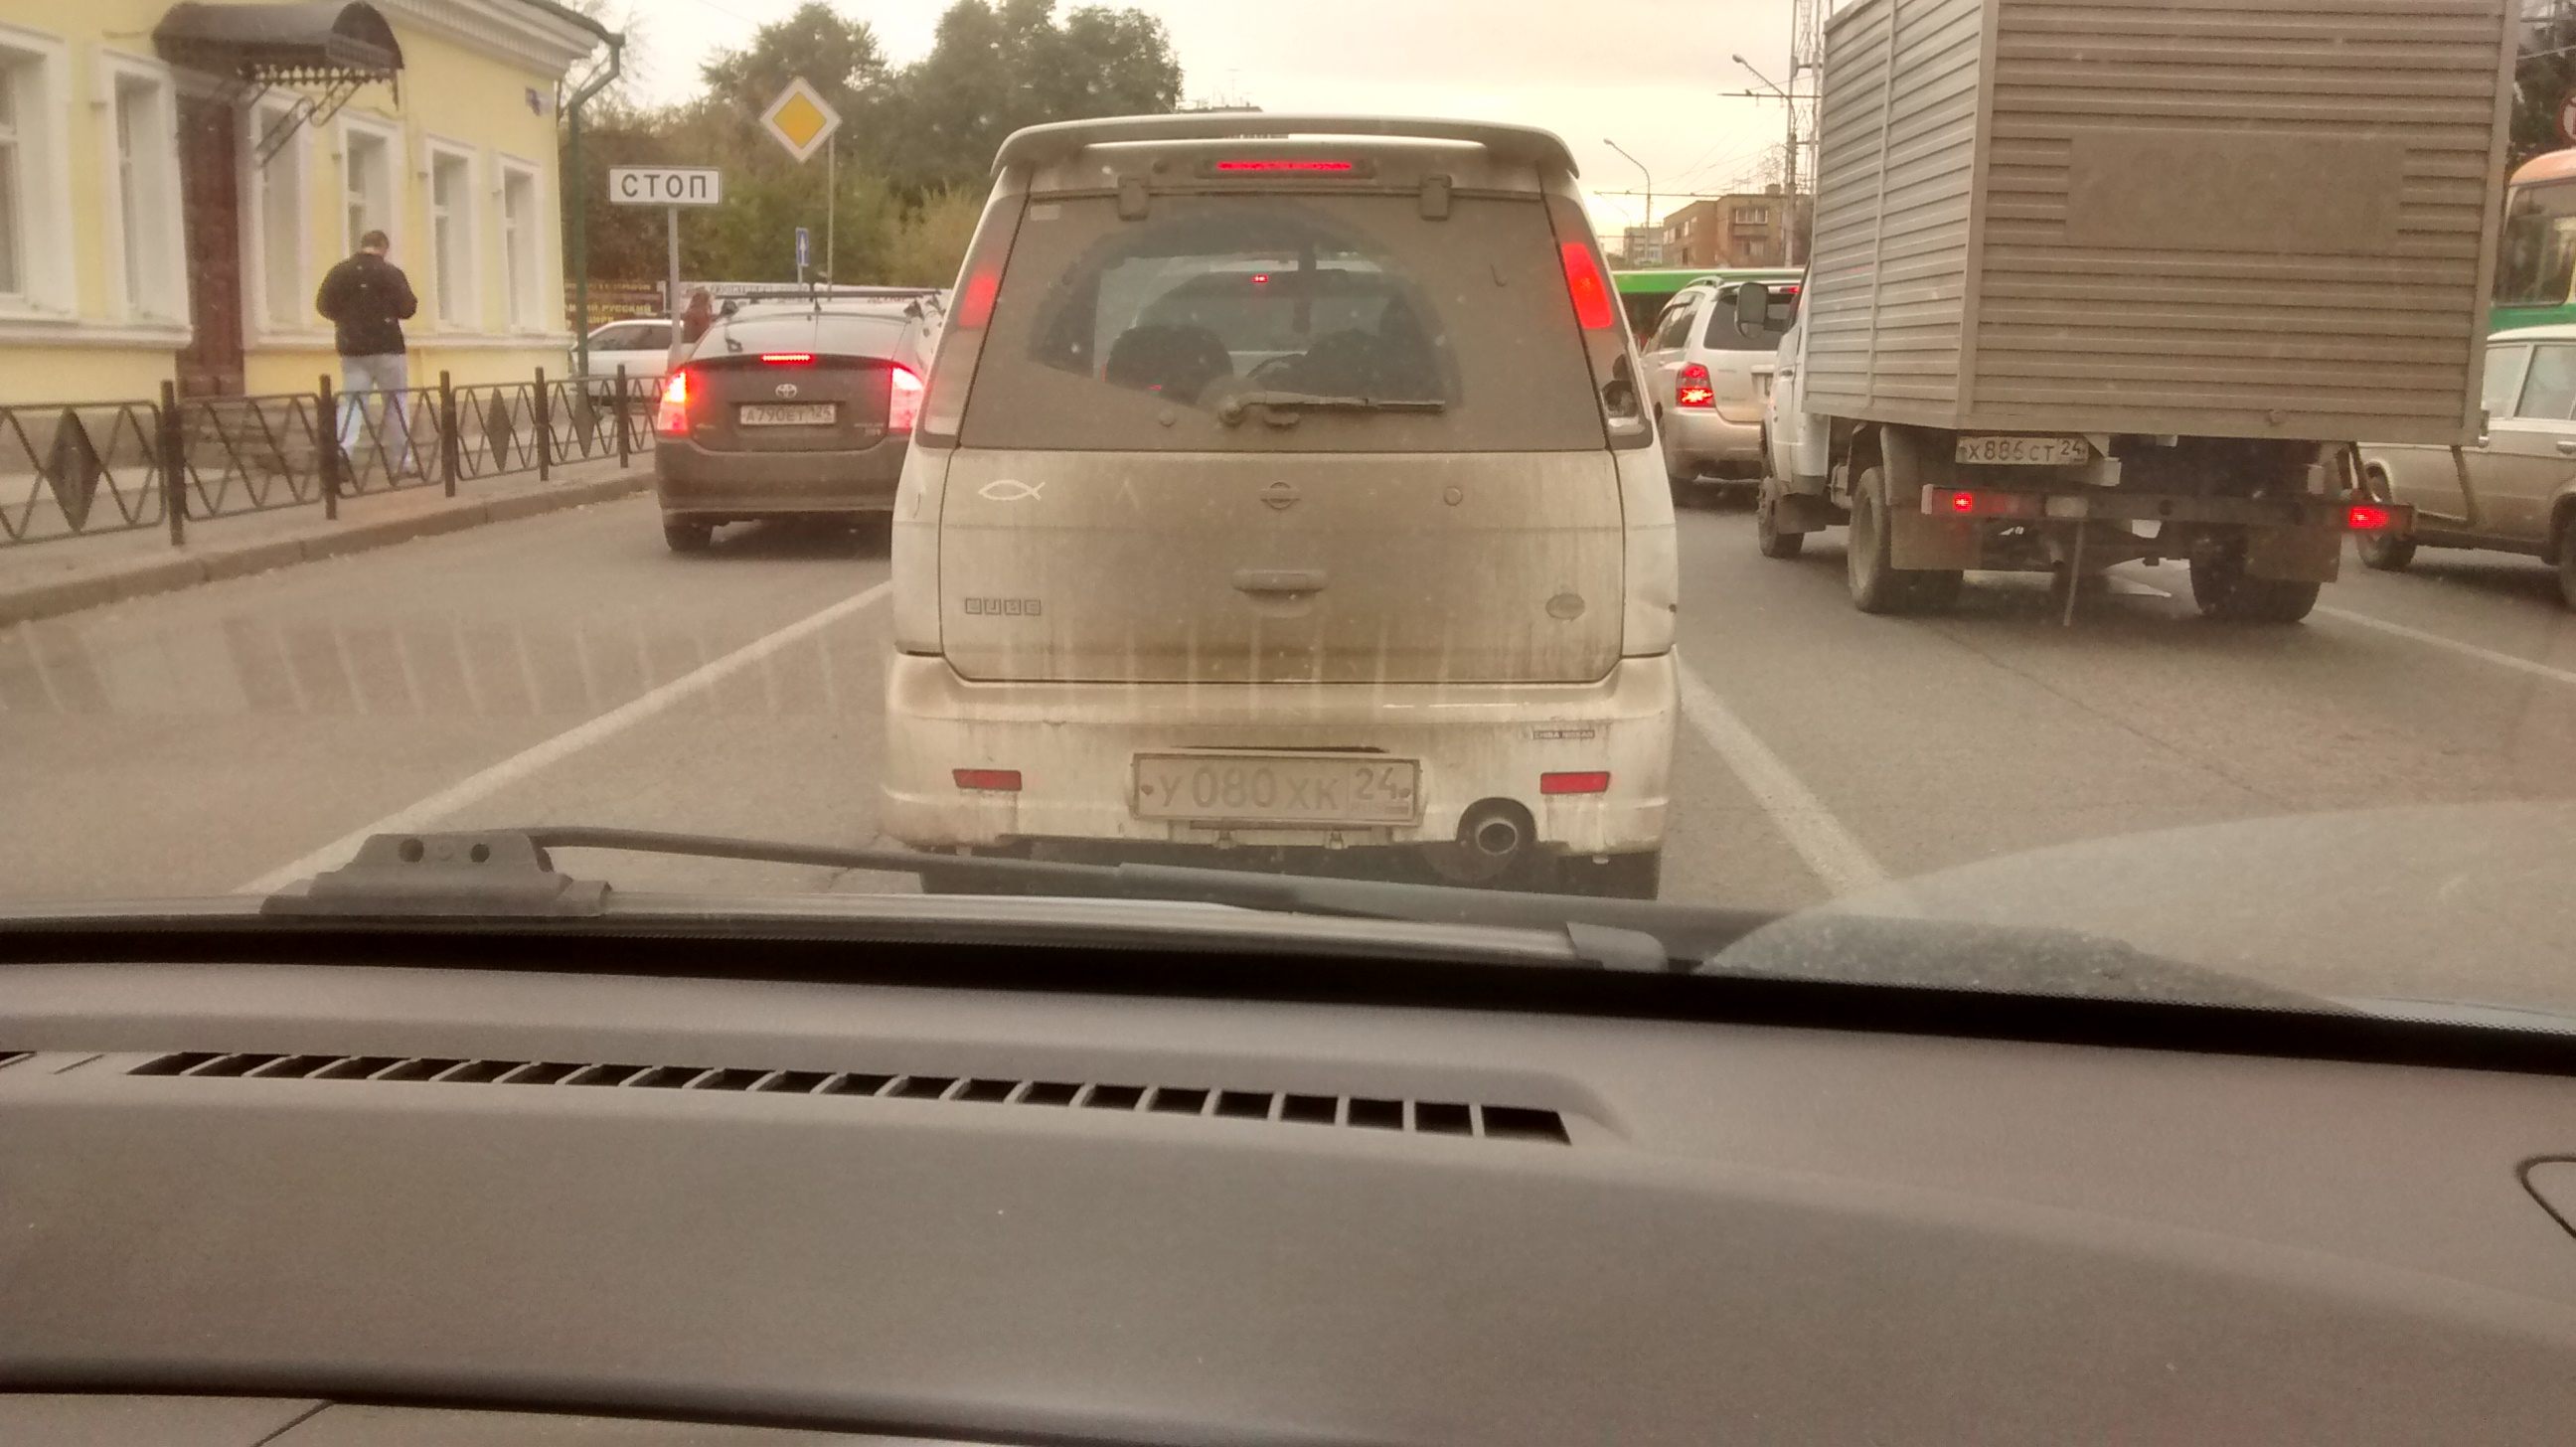car license plate: (1137, 752, 1431, 841), (1953, 421, 2091, 482), (731, 397, 835, 432)
